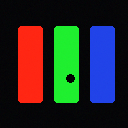0 point: (66, 74, 74, 82)
